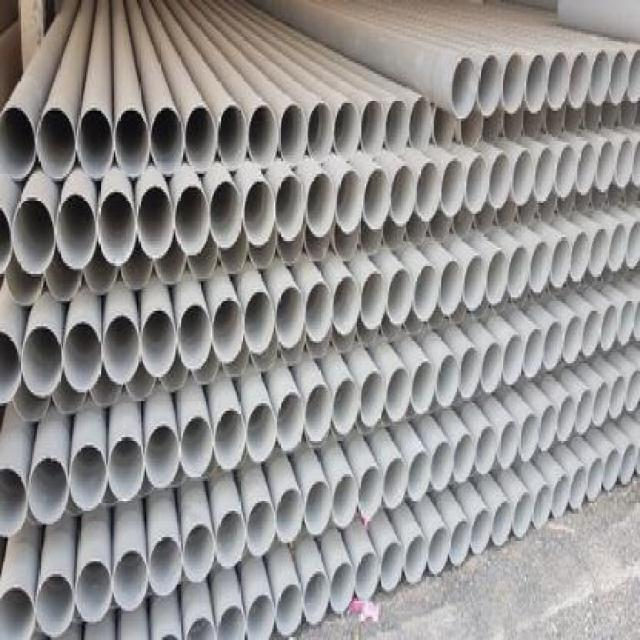pipe: (12, 196, 55, 273), (55, 194, 97, 270), (21, 324, 63, 397), (36, 107, 76, 180), (136, 185, 175, 259), (97, 191, 136, 265), (28, 457, 70, 525), (63, 321, 103, 392), (0, 103, 37, 179), (102, 315, 141, 386), (77, 107, 114, 180), (175, 184, 211, 257), (69, 444, 108, 510), (114, 108, 151, 177), (35, 573, 74, 638), (139, 309, 176, 377), (108, 436, 145, 502), (75, 560, 114, 622), (113, 549, 150, 612), (152, 106, 186, 174), (209, 181, 243, 249), (179, 303, 213, 369), (146, 424, 180, 490), (185, 105, 218, 173), (243, 180, 276, 246), (212, 298, 245, 363), (149, 535, 183, 597), (218, 104, 249, 172), (275, 173, 306, 241), (180, 416, 213, 479), (245, 402, 278, 464), (182, 523, 216, 583), (4, 256, 44, 307), (244, 290, 275, 355), (0, 466, 28, 537), (248, 104, 279, 167), (214, 408, 245, 470), (307, 172, 336, 238), (0, 585, 35, 639), (44, 253, 83, 301), (279, 102, 308, 165), (363, 165, 391, 230), (335, 169, 363, 234), (276, 286, 305, 348), (216, 510, 247, 568), (84, 248, 120, 296), (305, 283, 333, 343), (277, 392, 305, 452), (247, 499, 276, 556), (0, 330, 22, 405), (151, 243, 190, 285), (305, 384, 333, 442), (359, 272, 387, 329), (332, 378, 360, 435), (306, 102, 334, 159), (276, 489, 305, 543), (333, 276, 359, 336), (415, 161, 441, 221), (390, 165, 416, 225), (452, 58, 477, 120), (185, 237, 221, 280), (440, 158, 466, 217), (477, 55, 502, 116), (388, 268, 413, 327), (120, 252, 156, 292), (414, 264, 439, 321), (386, 366, 412, 420), (332, 472, 358, 526), (305, 481, 331, 535), (303, 571, 329, 625), (462, 255, 487, 311), (360, 371, 385, 427), (335, 101, 360, 157), (216, 233, 249, 275), (411, 360, 436, 415), (276, 584, 304, 633), (512, 148, 535, 207), (466, 155, 489, 214), (435, 354, 460, 408), (360, 99, 385, 153), (502, 53, 524, 114), (547, 53, 570, 111), (358, 465, 383, 518), (379, 541, 404, 594), (385, 98, 410, 151), (526, 54, 548, 114), (440, 259, 463, 316), (488, 152, 511, 209), (247, 594, 276, 639), (529, 239, 552, 295), (273, 227, 306, 266), (568, 52, 590, 110), (383, 456, 408, 507), (331, 562, 356, 613), (410, 96, 433, 150), (330, 219, 361, 259), (487, 250, 509, 306), (407, 451, 432, 500), (355, 552, 380, 600), (555, 145, 577, 199), (453, 432, 476, 483), (522, 327, 544, 380), (458, 346, 480, 399), (432, 440, 454, 493), (405, 534, 427, 587), (246, 229, 275, 269), (591, 50, 611, 107), (427, 526, 450, 575), (502, 334, 524, 385), (481, 342, 503, 393), (550, 236, 572, 287), (509, 244, 529, 300), (302, 223, 330, 263), (356, 213, 384, 253), (216, 604, 247, 640), (474, 427, 497, 475), (449, 519, 472, 567), (534, 148, 554, 202), (576, 142, 596, 195), (433, 104, 456, 150), (471, 507, 493, 555), (610, 50, 629, 105), (571, 229, 590, 283), (519, 412, 539, 463), (596, 141, 616, 192), (589, 227, 609, 278), (380, 212, 406, 251), (492, 500, 514, 545), (615, 137, 634, 188), (562, 315, 582, 363), (498, 420, 518, 468), (513, 493, 533, 539), (544, 322, 563, 370), (575, 388, 594, 436), (557, 395, 576, 443), (608, 223, 627, 271), (427, 209, 453, 244), (533, 484, 553, 529), (582, 310, 601, 356), (592, 382, 611, 427), (538, 405, 557, 450), (619, 441, 638, 486), (586, 457, 605, 502), (569, 465, 588, 510), (460, 111, 483, 148), (600, 303, 617, 352), (618, 299, 635, 347), (552, 474, 571, 516), (406, 210, 428, 246), (451, 206, 474, 240), (472, 203, 497, 234), (494, 199, 519, 230), (609, 375, 626, 420), (627, 47, 640, 105), (546, 102, 566, 139), (603, 447, 620, 490), (515, 194, 537, 227), (535, 192, 557, 225), (625, 219, 639, 270), (582, 102, 605, 133), (502, 109, 524, 140), (525, 106, 545, 139), (625, 369, 639, 414), (563, 102, 583, 133), (619, 98, 639, 129), (481, 112, 503, 140), (600, 101, 620, 129)
